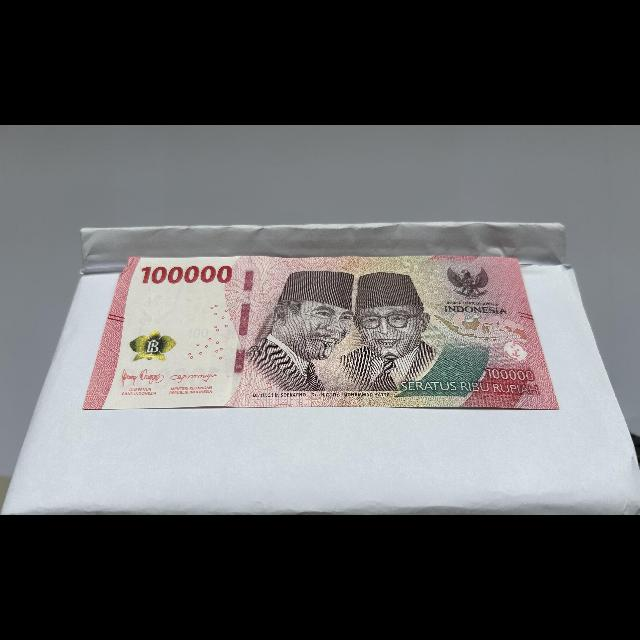Tinta-Asli-100k: (126, 328, 181, 364)
